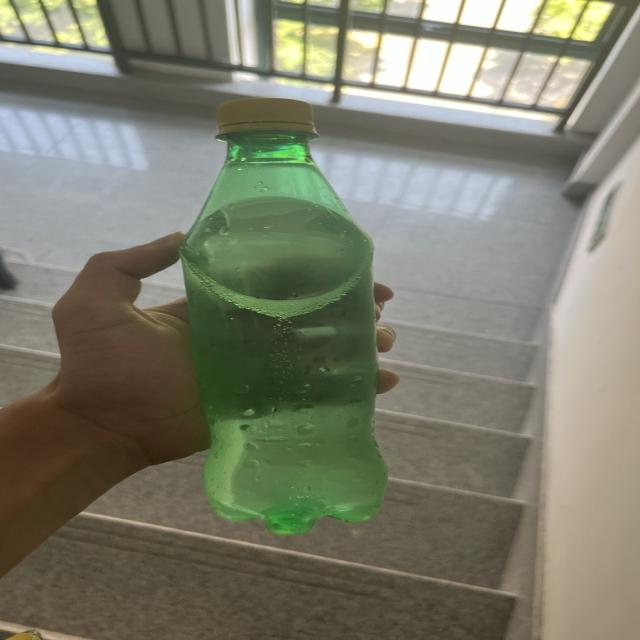high: (180, 99, 386, 535)
